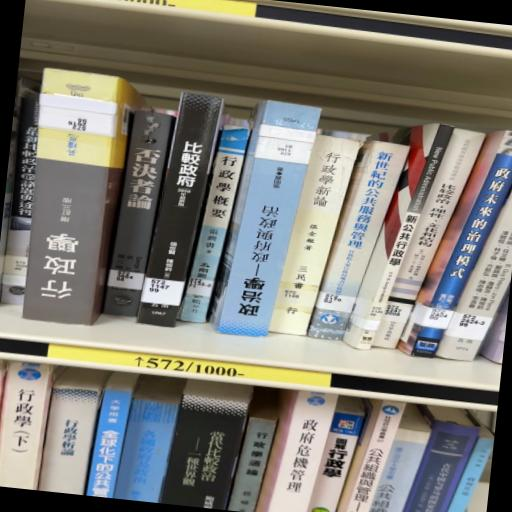reverse: (23, 68, 146, 325), (209, 101, 321, 337)
